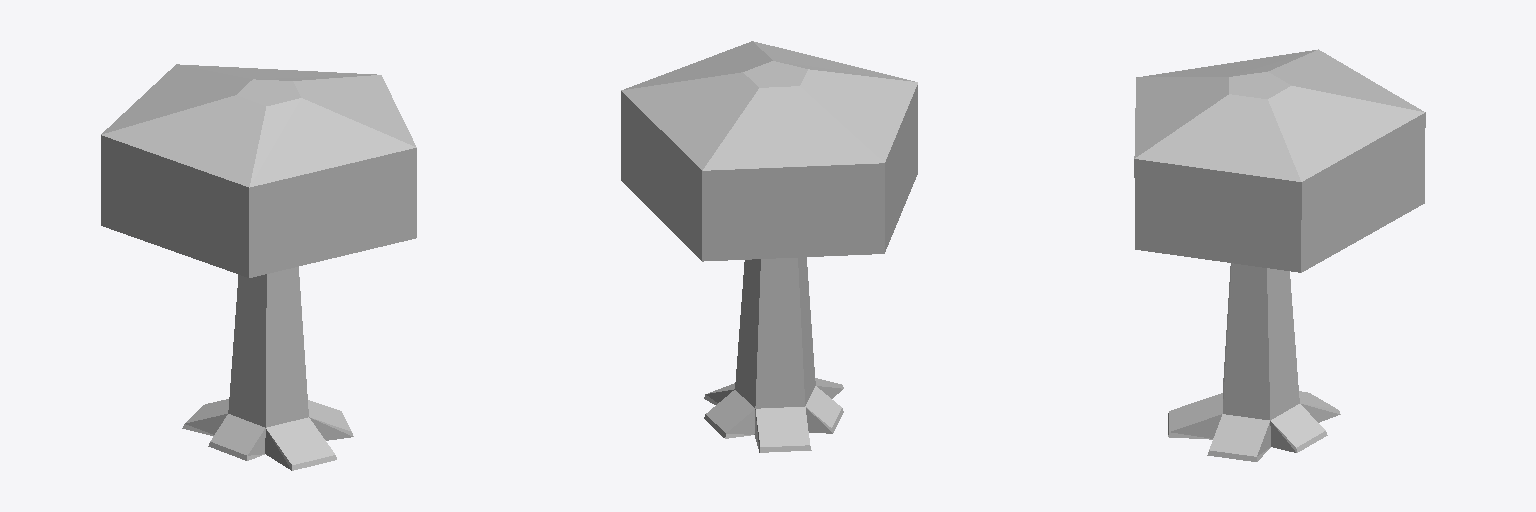
File: Tree.obj
The picture shows the model from 3 angles: view 1: azimuth 30°, elevation 25°; view 2: azimuth 150°, elevation 25°; view 3: azimuth 270°, elevation 25°; orthographic projection.
Parts seen in each view (by area): view 1: Cone; view 2: Cone; view 3: Cone.
Part boxes in pixels (bbox=[...]): Cone: bbox=[101, 64, 416, 470]; Cone: bbox=[621, 41, 917, 452]; Cone: bbox=[1134, 49, 1425, 461].
Bounding box in the file's own units: 3.52 × 4.24 × 3.26.